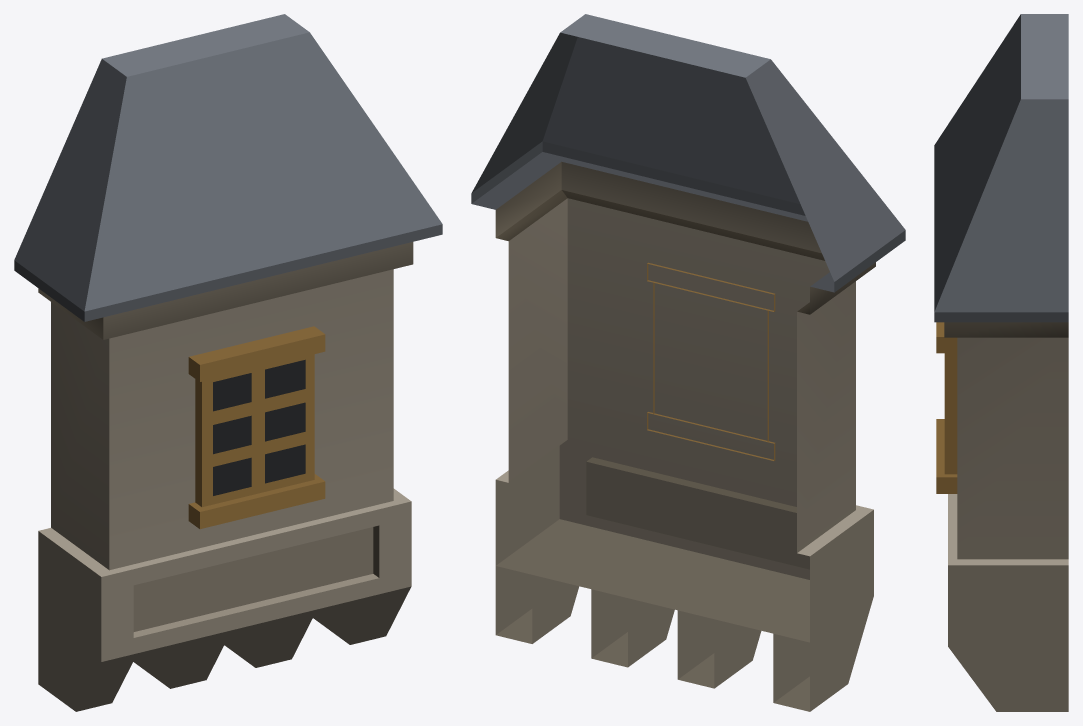
File: SF_Bld_Castle_Window_01.fbx
The picture shows the model from 3 angles, left to right: view 1: azimuth 30°, elevation 25°; view 2: azimuth 150°, elevation 25°; view 3: azimuth 270°, elevation 25°; orthographic projection. The views are drawn at different scales.
Parts seen in each view (by area): view 1: SF_Bld_Castle_Window_01; view 2: SF_Bld_Castle_Window_01; view 3: SF_Bld_Castle_Window_01.
Part boxes in pixels (x1,y1,x2,y2): SF_Bld_Castle_Window_01: (14,14,442,711); SF_Bld_Castle_Window_01: (471,14,905,711); SF_Bld_Castle_Window_01: (934,14,1068,711).
Bounding box in the file's own units: 5.48 × 8.91 × 1.86.
